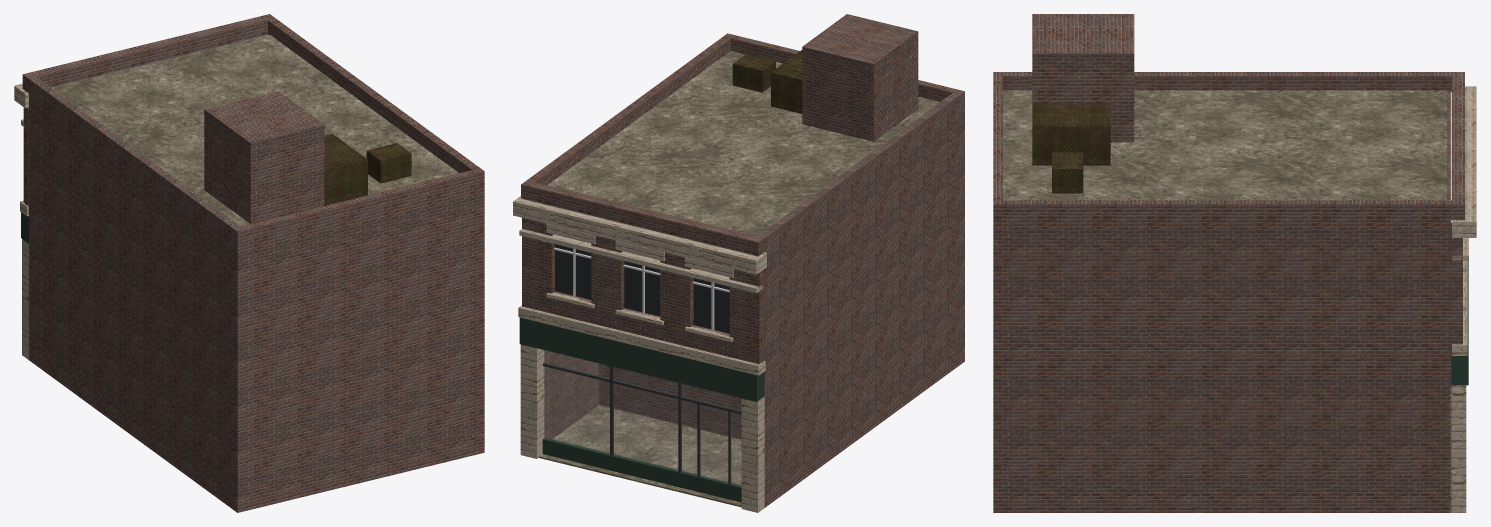
Rendered from bldg_shop_brick_2st.gltf.
3 views of the same model, side by side, from view 1: azimuth 30°, elevation 25°; view 2: azimuth 150°, elevation 25°; view 3: azimuth 270°, elevation 25° (orthographic). The views are drawn at different scales.
Visible parts, largest first — view 1: bldg_shop_brick_2st; view 2: bldg_shop_brick_2st; view 3: bldg_shop_brick_2st.
Part boxes in pixels (x1,y1,x2,y2): bldg_shop_brick_2st: (14, 14, 484, 512); bldg_shop_brick_2st: (513, 14, 964, 512); bldg_shop_brick_2st: (993, 14, 1476, 512).
Size of what is drawn, in the model's own units: 8.2 by 10.82 by 12.35.
9 materials, 4 textured.
